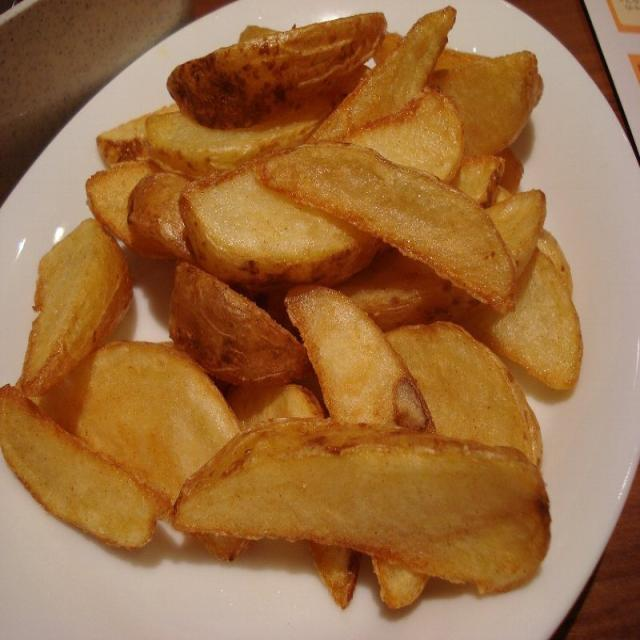French Fries: (23, 9, 568, 622)
